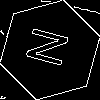N: (25, 25, 79, 72)
